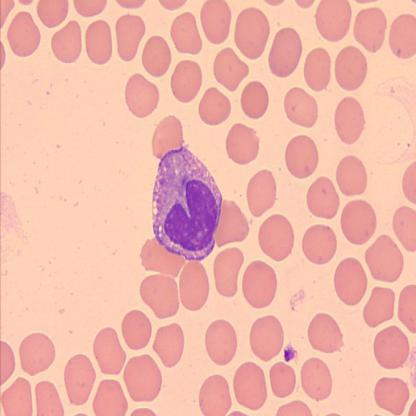Monocyte: (150, 141, 224, 262)
